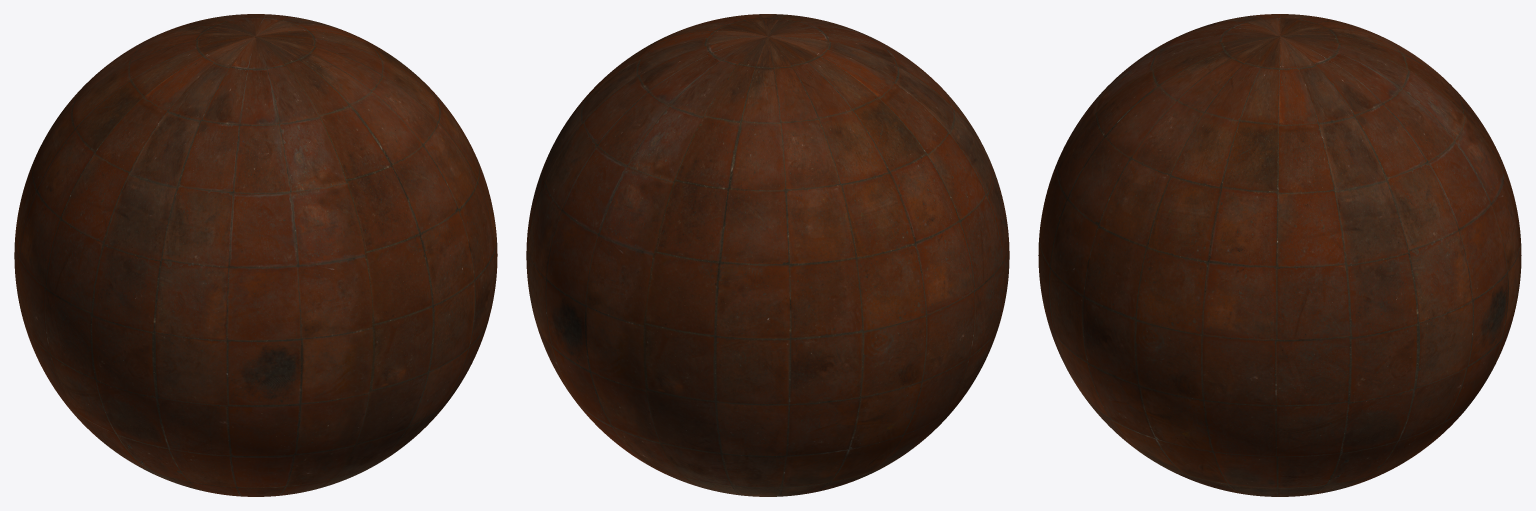
Rendered from dirty_tiles_2k.gltf.
3 views of the same model, side by side, from view 1: azimuth 30°, elevation 25°; view 2: azimuth 150°, elevation 25°; view 3: azimuth 270°, elevation 25° (orthographic).
Parts seen in each view (by area): view 1: sphere_gltf; view 2: sphere_gltf; view 3: sphere_gltf.
Boxes of the visible parts, x1,y1,x2,y2 form: sphere_gltf: (14, 14, 497, 496); sphere_gltf: (526, 14, 1009, 496); sphere_gltf: (1038, 14, 1521, 496).
Bounding box in the file's own units: 2.26 × 2.26 × 2.26.
Materials: 1 (1 with a texture image).
